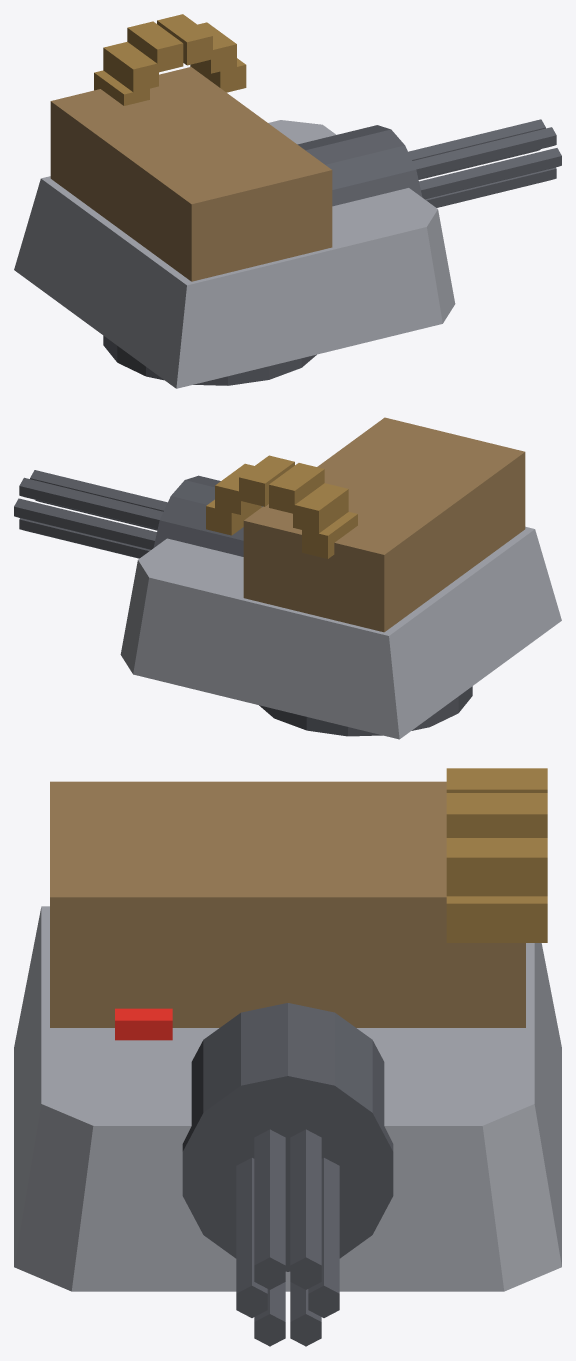
The model's file is vge_compact_minigun.obj.
3 renders of one model, top to bottom at view 1: azimuth 30°, elevation 25°; view 2: azimuth 150°, elevation 25°; view 3: azimuth 270°, elevation 25°, orthographic. The views are drawn at different scales.
Parts seen in each view (by area): view 1: vge_compact_minigun_1, vge_compact_minigun_2, vge_compact_minigun_9, vge_compact_minigun_12, vge_compact_minigun_13, vge_compact_minigun_7, vge_compact_minigun_0, vge_compact_minigun_6, vge_compact_minigun_5, vge_compact_minigun_14, vge_compact_minigun_11, vge_compact_minigun_4 (+2 smaller); view 2: vge_compact_minigun_1, vge_compact_minigun_2, vge_compact_minigun_9, vge_compact_minigun_11, vge_compact_minigun_10, vge_compact_minigun_7, vge_compact_minigun_0, vge_compact_minigun_6, vge_compact_minigun_5, vge_compact_minigun_15, vge_compact_minigun_12, vge_compact_minigun_8 (+2 smaller); view 3: vge_compact_minigun_2, vge_compact_minigun_1, vge_compact_minigun_9, vge_compact_minigun_4, vge_compact_minigun_11, vge_compact_minigun_12, vge_compact_minigun_3, vge_compact_minigun_5, vge_compact_minigun_10, vge_compact_minigun_13, vge_compact_minigun_6, vge_compact_minigun_16 (+2 smaller).
Boxes of the visible parts, <box> form: vge_compact_minigun_1: <box>14,120,455,388</box>; vge_compact_minigun_2: <box>50,67,332,281</box>; vge_compact_minigun_9: <box>297,125,422,206</box>; vge_compact_minigun_12: <box>412,127,556,178</box>; vge_compact_minigun_13: <box>419,148,561,199</box>; vge_compact_minigun_7: <box>103,42,158,92</box>; vge_compact_minigun_0: <box>103,335,316,385</box>; vge_compact_minigun_6: <box>127,21,183,72</box>; vge_compact_minigun_5: <box>157,14,212,65</box>; vge_compact_minigun_14: <box>425,167,556,207</box>; vge_compact_minigun_11: <box>408,119,545,160</box>; vge_compact_minigun_4: <box>197,22,236,73</box>; vge_compact_minigun_1: <box>120,526,561,739</box>; vge_compact_minigun_2: <box>243,417,525,632</box>; vge_compact_minigun_9: <box>153,475,262,556</box>; vge_compact_minigun_11: <box>19,477,163,529</box>; vge_compact_minigun_10: <box>14,498,156,549</box>; vge_compact_minigun_7: <box>293,483,348,533</box>; vge_compact_minigun_0: <box>259,686,472,736</box>; vge_compact_minigun_6: <box>269,463,324,513</box>; vge_compact_minigun_5: <box>239,455,294,506</box>; vge_compact_minigun_15: <box>19,518,150,558</box>; vge_compact_minigun_12: <box>30,470,167,511</box>; vge_compact_minigun_8: <box>302,512,357,558</box>; vge_compact_minigun_2: <box>50,781,525,1027</box>; vge_compact_minigun_1: <box>14,906,561,1291</box>; vge_compact_minigun_9: <box>182,1003,393,1271</box>; vge_compact_minigun_4: <box>446,838,547,896</box>; vge_compact_minigun_11: <box>290,1129,321,1289</box>; vge_compact_minigun_12: <box>254,1129,285,1289</box>; vge_compact_minigun_3: <box>446,896,547,942</box>; vge_compact_minigun_5: <box>446,793,547,837</box>; vge_compact_minigun_10: <box>308,1158,339,1317</box>; vge_compact_minigun_13: <box>236,1158,267,1317</box>; vge_compact_minigun_6: <box>446,768,547,792</box>; vge_compact_minigun_16: <box>115,1008,172,1040</box>.
Size of the model in its own units: 1.22 by 0.6651 by 0.76.
